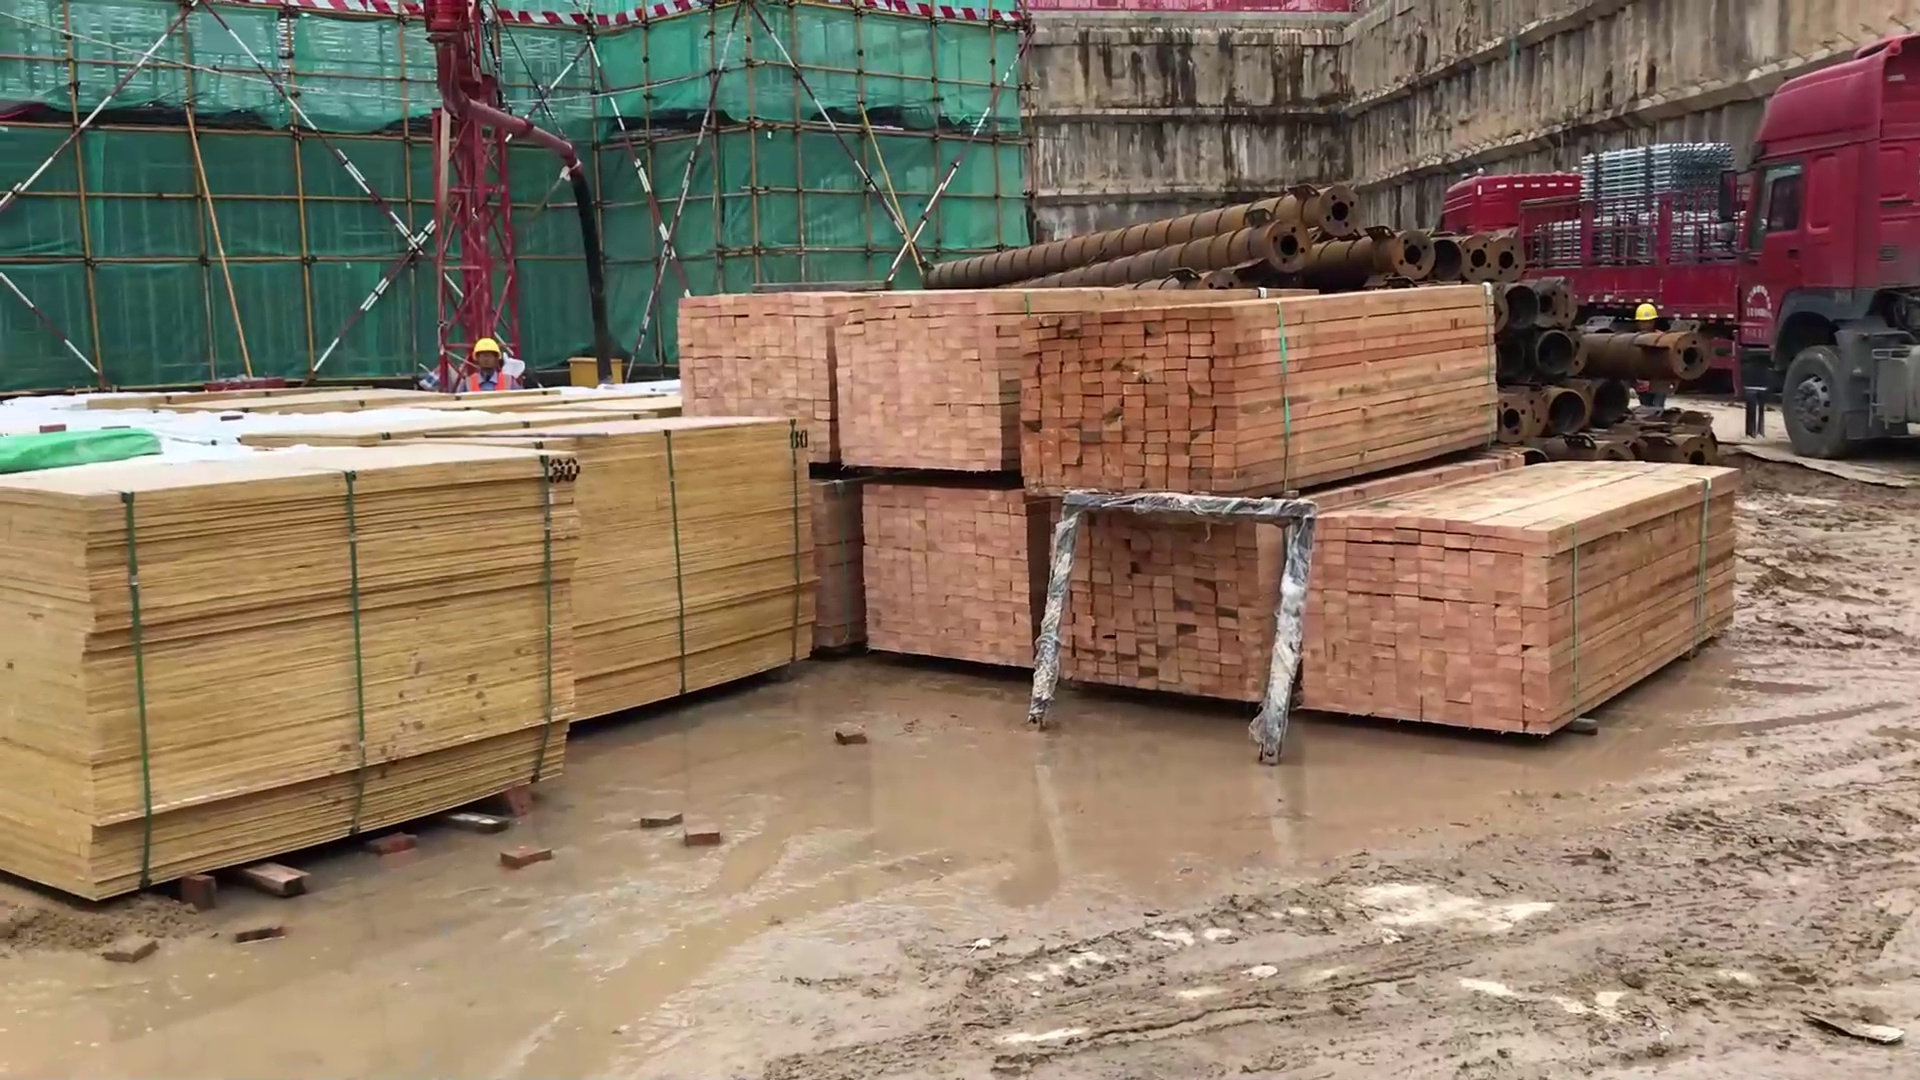board: (1, 447, 604, 918), (532, 411, 818, 729)
ebox: (566, 354, 626, 388)
helmet: (470, 336, 505, 354), (1634, 303, 1661, 321)
person: (1629, 299, 1675, 407), (452, 336, 526, 392)
scaffold: (1570, 135, 1737, 217)
vest: (465, 373, 516, 391)
wood: (1307, 456, 1769, 745), (1021, 293, 1488, 500), (1059, 494, 1286, 715), (837, 264, 1022, 489), (845, 487, 1051, 676), (671, 279, 844, 463)
